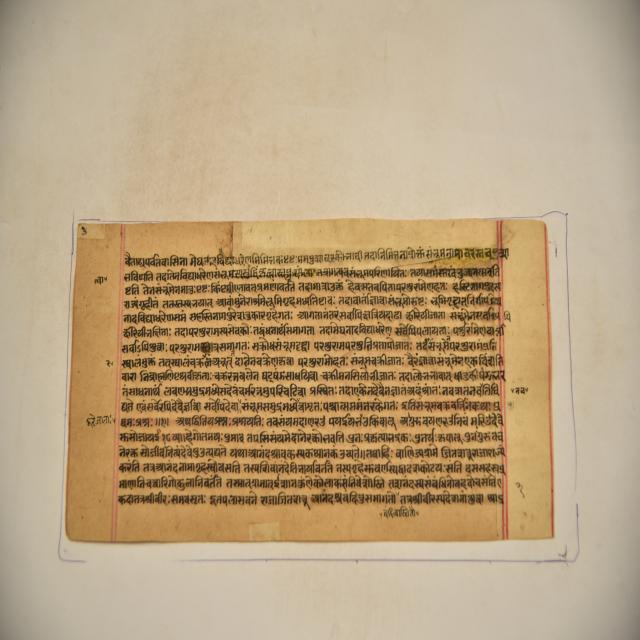text_paragraph: (64, 222, 555, 542)
